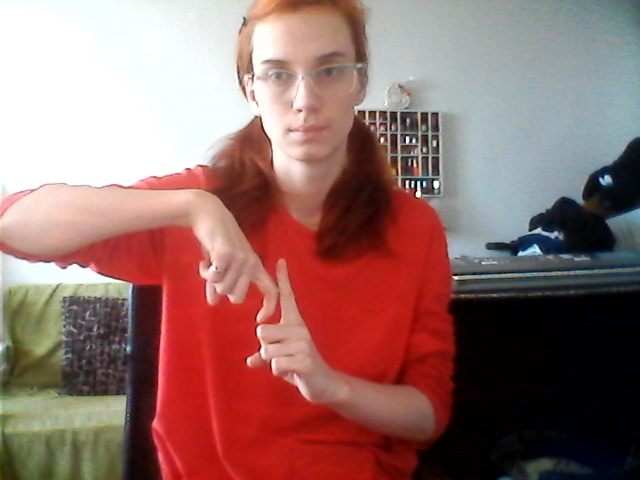k: (186, 215, 329, 420)
